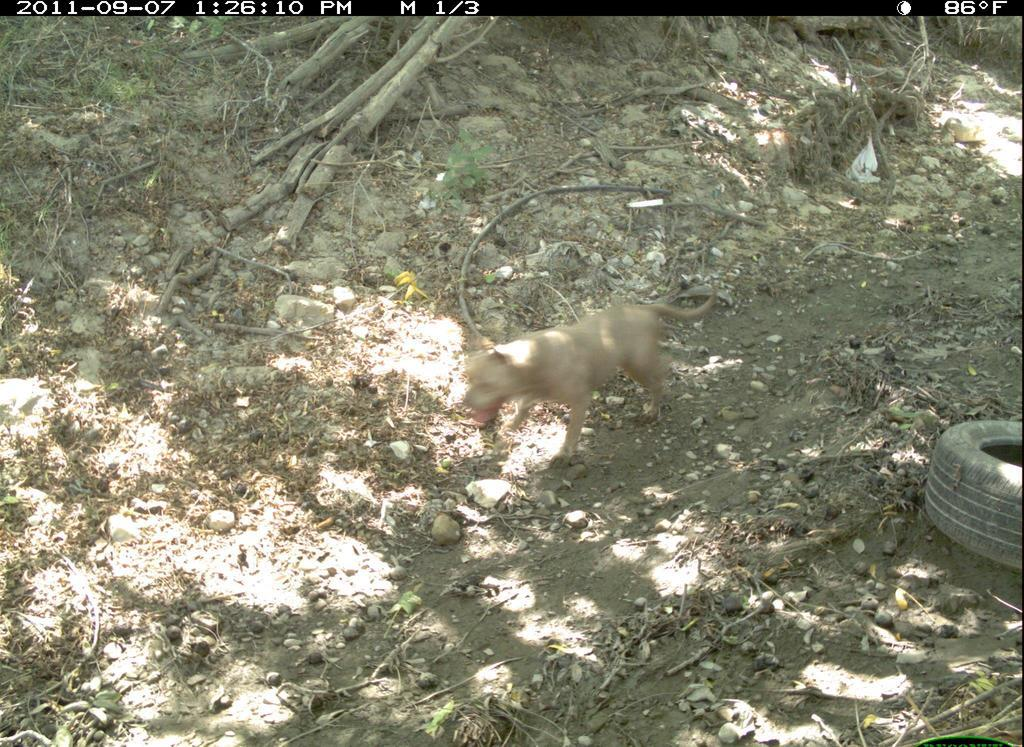dog: (459, 274, 724, 475)
